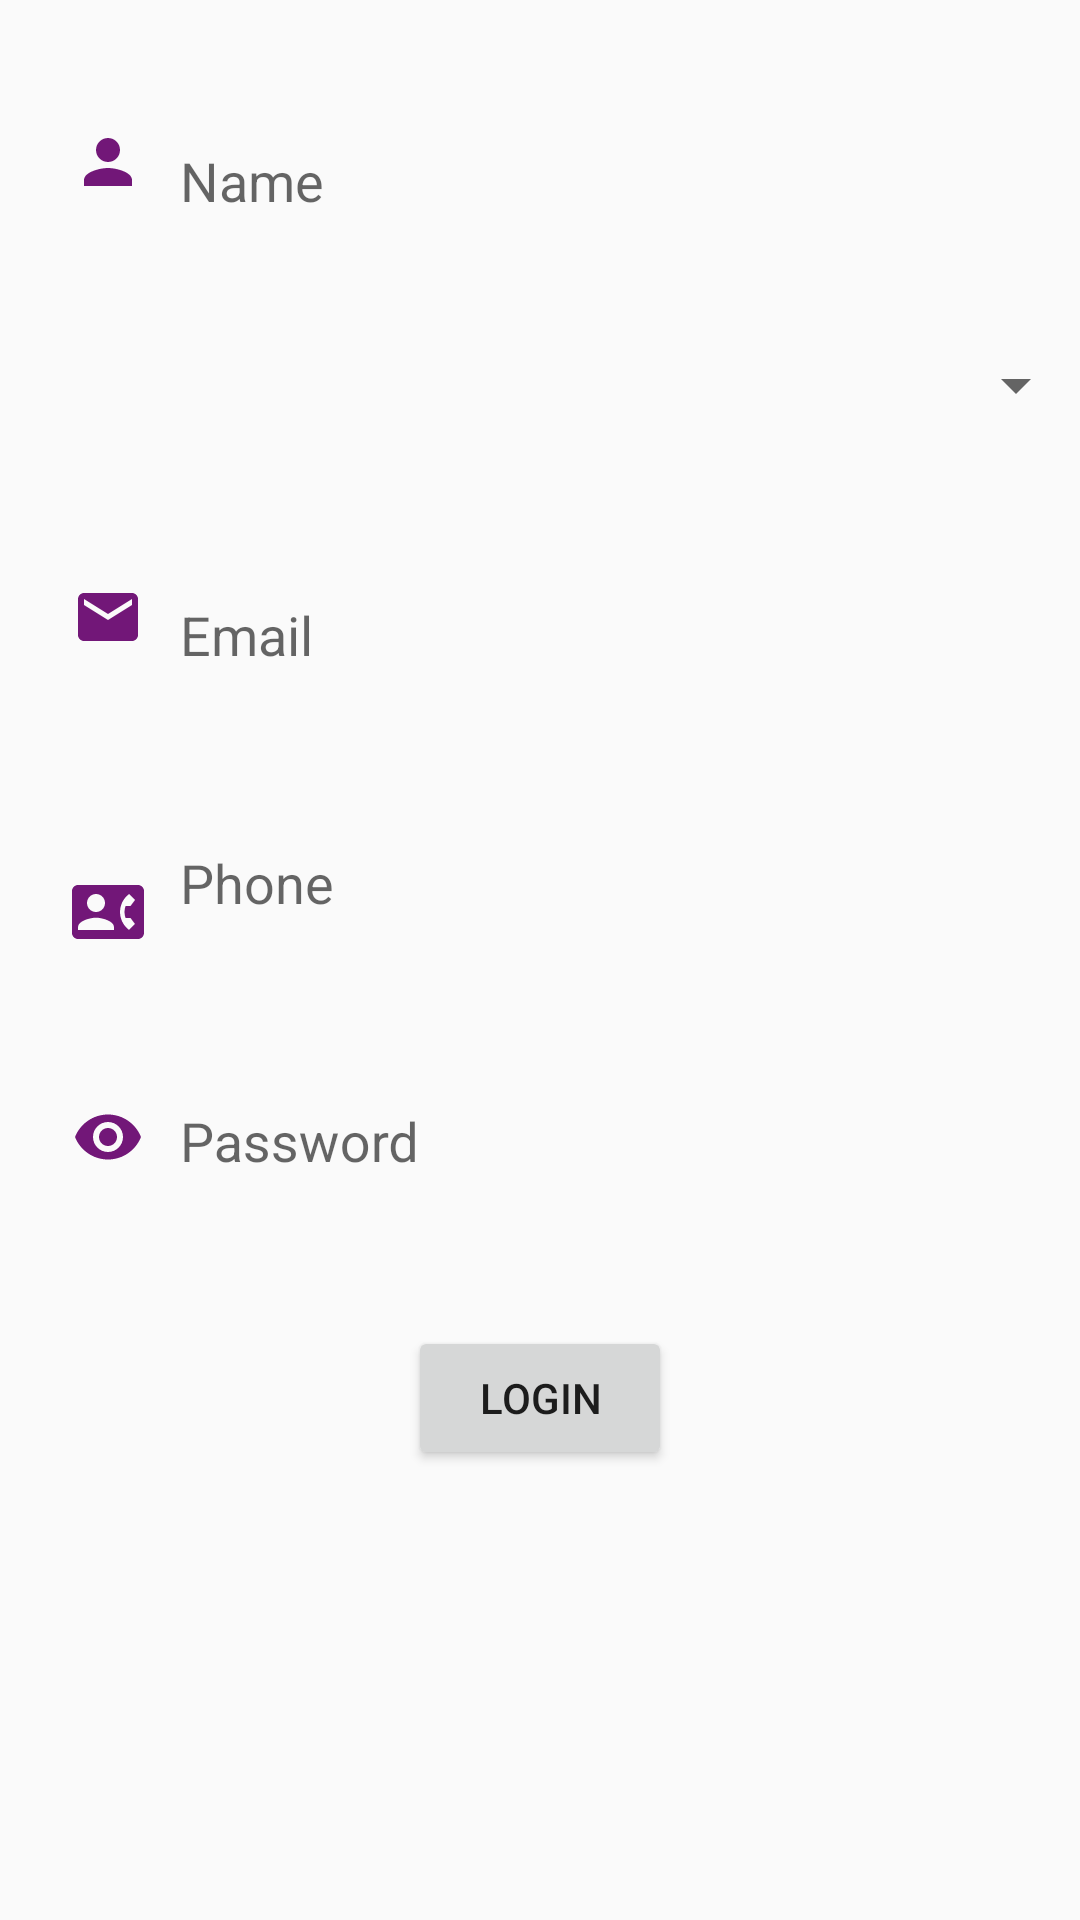

Icon bounding boxes for this 1080w x 1920h phone screenshot, format (x1, y1, x2, y2):
person: (84, 138, 132, 186)
